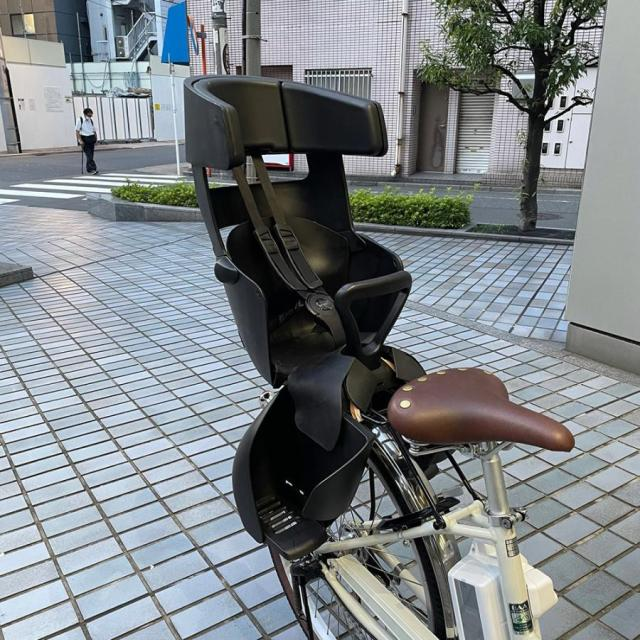childseat: (178, 75, 430, 552)
